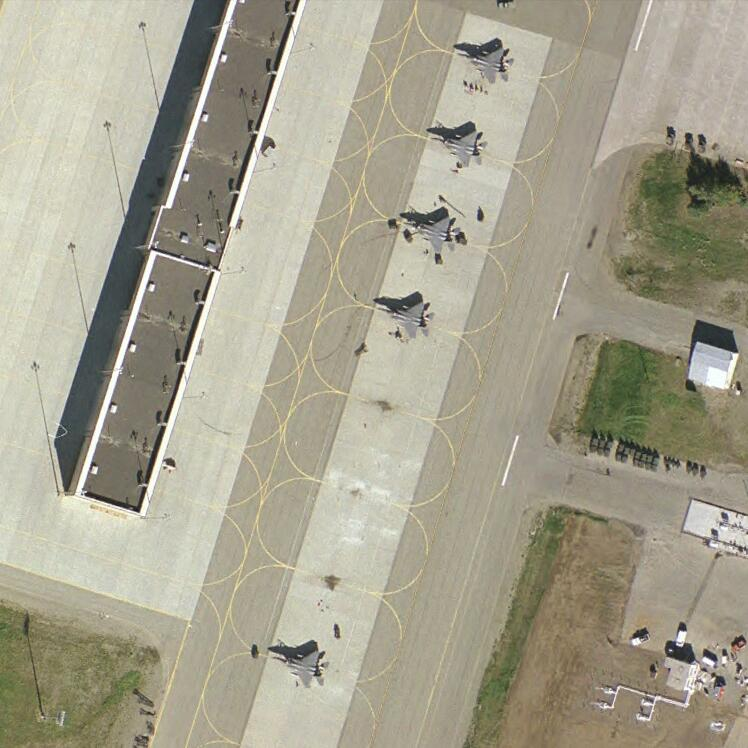A13: (395, 210, 464, 264), (371, 295, 435, 346), (270, 645, 331, 692), (428, 127, 490, 172), (458, 45, 516, 86)
